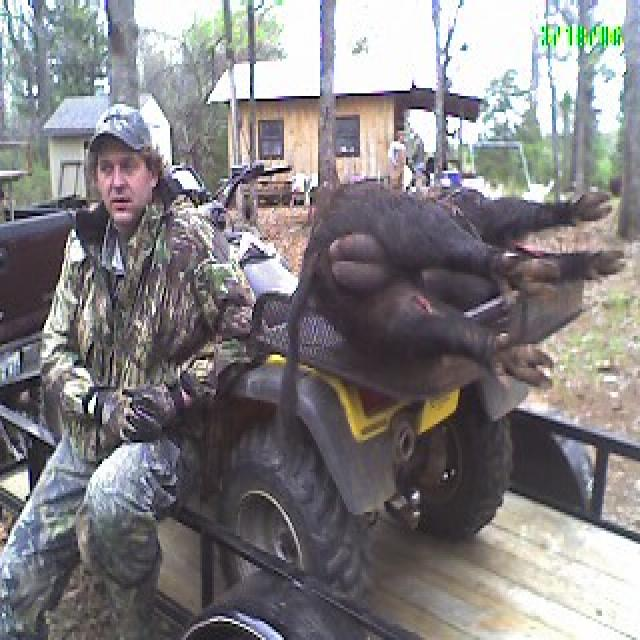boar: (266, 129, 629, 459)
